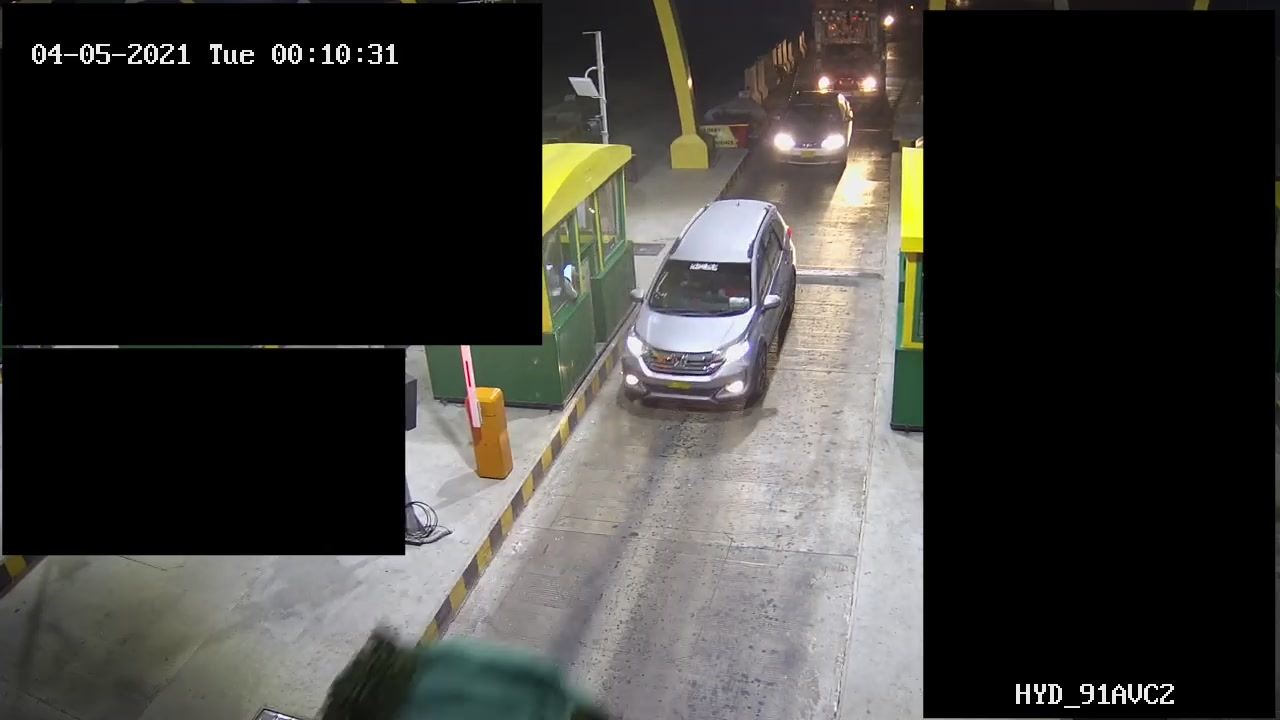F1: (608, 184, 811, 412)
